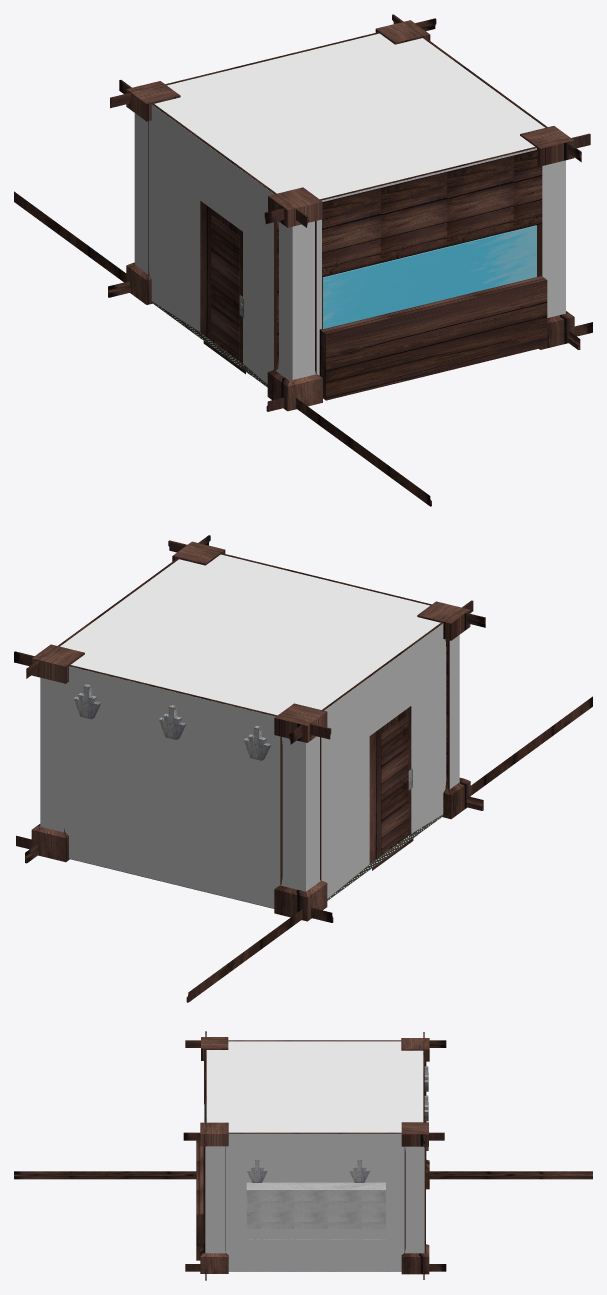
The model's file is Room.fbx.
3 renders of one model, top to bottom at view 1: azimuth 30°, elevation 25°; view 2: azimuth 150°, elevation 25°; view 3: azimuth 270°, elevation 25°, orthographic. The views are drawn at different scales.
Parts seen in each view (by area): view 1: Game, Cieling, Wall_Door, Columns, Game_Wall, Door, Trim_Floor, Trim_Roof; view 2: Wall_Instructions, Cieling, Wall_Door, Columns, Trim_Floor, Door, Trim_Roof, Lights; view 3: RepairWall, Cieling, Columns, Trim_Floor, Trim_Roof, Game, Lights.
Part boxes in pixels (<box>): Game: <box>319,150,547,400</box>; Cieling: <box>153,33,545,199</box>; Wall_Door: <box>134,105,292,383</box>; Columns: <box>126,20,574,411</box>; Game_Wall: <box>151,148,565,386</box>; Door: <box>203,216,248,374</box>; Trim_Floor: <box>14,191,592,506</box>; Trim_Roof: <box>110,14,590,227</box>; Wall_Instructions: <box>40,666,305,908</box>; Cieling: <box>60,554,440,715</box>; Wall_Door: <box>306,624,459,898</box>; Columns: <box>31,541,470,921</box>; Trim_Floor: <box>16,696,592,1002</box>; Door: <box>372,714,417,870</box>; Trim_Roof: <box>14,535,485,744</box>; Lights: <box>73,684,271,760</box>; RepairWall: <box>205,1133,424,1271</box>; Cieling: <box>206,1041,423,1132</box>; Columns: <box>200,1037,429,1274</box>; Trim_Floor: <box>14,1171,592,1280</box>; Trim_Roof: <box>183,1031,446,1147</box>; Game: <box>196,1052,205,1260</box>; Lights: <box>247,1066,428,1182</box>.
Bounding box in the file's own units: 3873 × 2297 × 8529.
